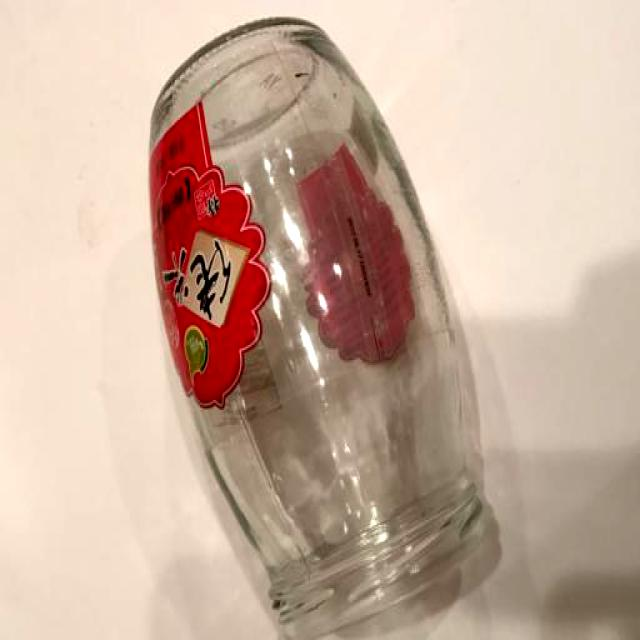Glass: (143, 9, 493, 640)
